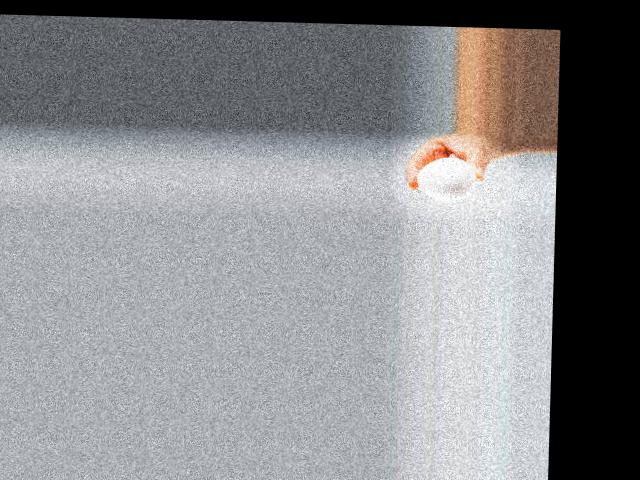egg: (415, 158, 476, 202)
